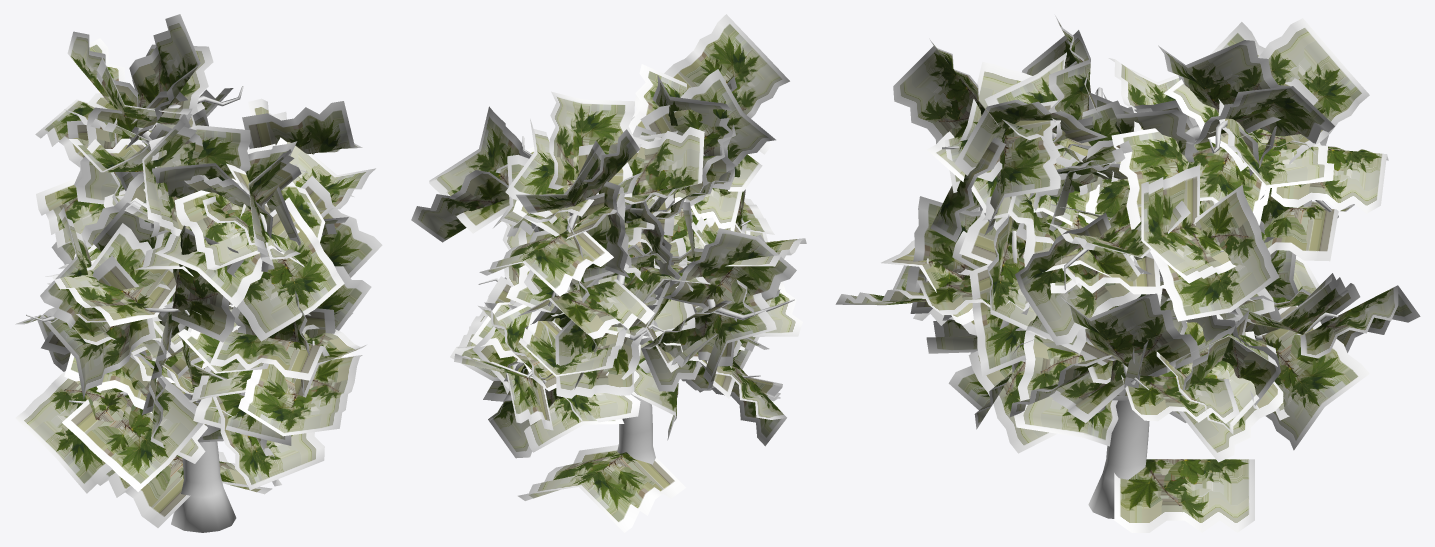
The model's file is NEW_Tree_2_FULL.fbx.
3 views of the same model, side by side, from view 1: azimuth 30°, elevation 25°; view 2: azimuth 150°, elevation 25°; view 3: azimuth 270°, elevation 25° (orthographic). The views are drawn at different scales.
Visible parts, largest first — view 1: Stronk|Blaadjes|Dupli|64, Stronk|Blaadjes|Dupli|85, Stronk|Blaadjes|Dupli|98, Stronk|Blaadjes|Dupli|63, Stronk|Blaadjes|Dupli|23, Stronk|Blaadjes|Dupli|87, Stronk, Stronk|Blaadjes|Dupli|130, Stronk|Blaadjes|Dupli|26, Stronk|Blaadjes|Dupli|16, Stronk|Blaadjes|Dupli|55, Stronk|Blaadjes|Dupli|22 (+42 smaller); view 2: Blaadjes, Stronk|Blaadjes|Dupli|107, Stronk|Blaadjes|Dupli|127, Stronk|Blaadjes|Dupli|26, Stronk|Blaadjes|Dupli|62, Stronk|Blaadjes|Dupli|122, Stronk|Blaadjes|Dupli|117, Stronk|Blaadjes|Dupli|16, Stronk|Blaadjes|Dupli|115, Stronk|Blaadjes|Dupli|81, Stronk|Blaadjes|Dupli|15, Stronk|Blaadjes|Dupli|24 (+44 smaller); view 3: Blaadjes, Stronk|Blaadjes|Dupli|15, Stronk|Blaadjes|Dupli|48, Stronk|Blaadjes|Dupli|96, Stronk|Blaadjes|Dupli|16, Stronk|Blaadjes|Dupli|12, Stronk|Blaadjes|Dupli|52, Stronk|Blaadjes|Dupli|127, Stronk|Blaadjes|Dupli|33, Stronk|Blaadjes|Dupli|26, Stronk, Stronk|Blaadjes|Dupli|117 (+50 smaller).
Part boxes in pixels (x1=…): Stronk|Blaadjes|Dupli|64: x1=62, y1=353, x2=203, y2=491; Stronk|Blaadjes|Dupli|85: x1=237, y1=197, x2=344, y2=341; Stronk|Blaadjes|Dupli|98: x1=238, y1=355, x2=362, y2=436; Stronk|Blaadjes|Dupli|63: x1=15, y1=371, x2=128, y2=493; Stronk|Blaadjes|Dupli|23: x1=45, y1=223, x2=176, y2=326; Stronk|Blaadjes|Dupli|87: x1=39, y1=255, x2=155, y2=399; Stronk: x1=26, y1=86, x2=314, y2=532; Stronk|Blaadjes|Dupli|130: x1=174, y1=178, x2=304, y2=270; Stronk|Blaadjes|Dupli|26: x1=125, y1=14, x2=200, y2=149; Stronk|Blaadjes|Dupli|16: x1=242, y1=101, x2=362, y2=154; Stronk|Blaadjes|Dupli|55: x1=212, y1=396, x2=324, y2=490; Stronk|Blaadjes|Dupli|22: x1=171, y1=225, x2=243, y2=342; Blaadjes: x1=518, y1=445, x2=685, y2=532; Stronk|Blaadjes|Dupli|107: x1=663, y1=228, x2=796, y2=308; Stronk|Blaadjes|Dupli|127: x1=664, y1=14, x2=789, y2=118; Stronk|Blaadjes|Dupli|26: x1=548, y1=91, x2=634, y2=197; Stronk|Blaadjes|Dupli|62: x1=640, y1=69, x2=775, y2=166; Stronk|Blaadjes|Dupli|122: x1=624, y1=127, x2=704, y2=204; Stronk|Blaadjes|Dupli|117: x1=479, y1=223, x2=613, y2=296; Stronk|Blaadjes|Dupli|16: x1=429, y1=106, x2=530, y2=233; Stronk|Blaadjes|Dupli|115: x1=518, y1=279, x2=654, y2=339; Stronk|Blaadjes|Dupli|81: x1=555, y1=305, x2=657, y2=398; Stronk|Blaadjes|Dupli|15: x1=411, y1=170, x2=509, y2=242; Stronk|Blaadjes|Dupli|24: x1=519, y1=310, x2=627, y2=376; Blaadjes: x1=1114, y1=459, x2=1254, y2=532; Stronk|Blaadjes|Dupli|15: x1=1150, y1=184, x2=1279, y2=321; Stronk|Blaadjes|Dupli|48: x1=1015, y1=212, x2=1140, y2=345; Stronk|Blaadjes|Dupli|96: x1=1258, y1=305, x2=1369, y2=450; Stronk|Blaadjes|Dupli|16: x1=1141, y1=165, x2=1236, y2=283; Stronk|Blaadjes|Dupli|12: x1=1258, y1=18, x2=1369, y2=164; Stronk|Blaadjes|Dupli|52: x1=1061, y1=293, x2=1200, y2=376; Stronk|Blaadjes|Dupli|127: x1=893, y1=38, x2=999, y2=143; Stronk|Blaadjes|Dupli|33: x1=1014, y1=330, x2=1118, y2=446; Stronk|Blaadjes|Dupli|26: x1=1158, y1=40, x2=1288, y2=133; Stronk: x1=924, y1=87, x2=1338, y2=518; Stronk|Blaadjes|Dupli|117: x1=1271, y1=145, x2=1388, y2=213.
Bounding box in the file's own units: 448 × 535 × 587.
